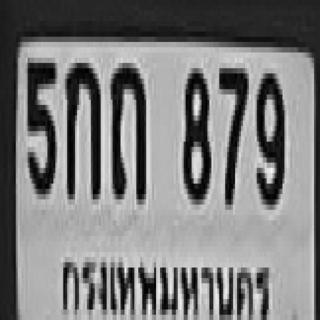A01: (63, 58, 99, 194)
A22: (109, 58, 144, 199)
N05: (26, 58, 53, 189)
N07: (217, 63, 247, 205)
N08: (182, 63, 209, 200)
N09: (255, 68, 283, 205)
P04: (58, 238, 270, 320)
